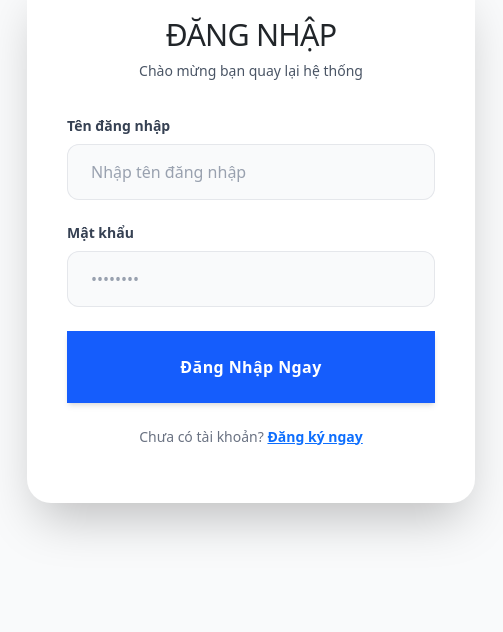
Test: Login Component › nên hiển thị thông báo lỗi khi đăng nhập thất bại
The image size is (503, 632).
Type "wronguser" into the field with placeholder "Nhập tên đăng nhập" at x=251, y=172, box left=67, top=144, right=435, bottom=200
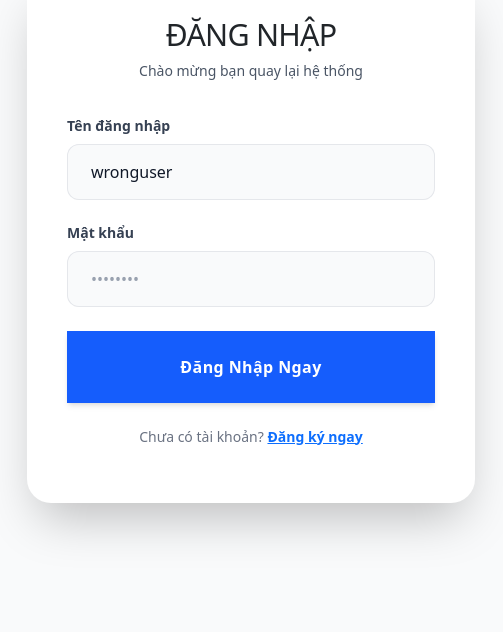
Type "wrongpass" into the password field with placeholder "••••••••" at x=251, y=278, box left=67, top=250, right=435, bottom=306
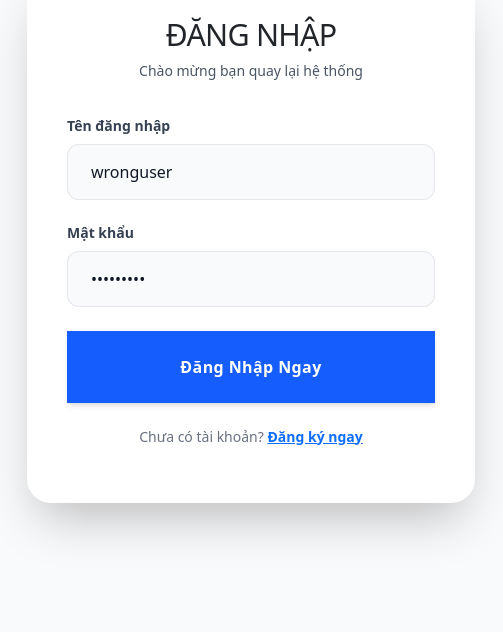
Click the button "Đăng Nhập Ngay" at x=251, y=366, box left=67, top=330, right=435, bottom=402
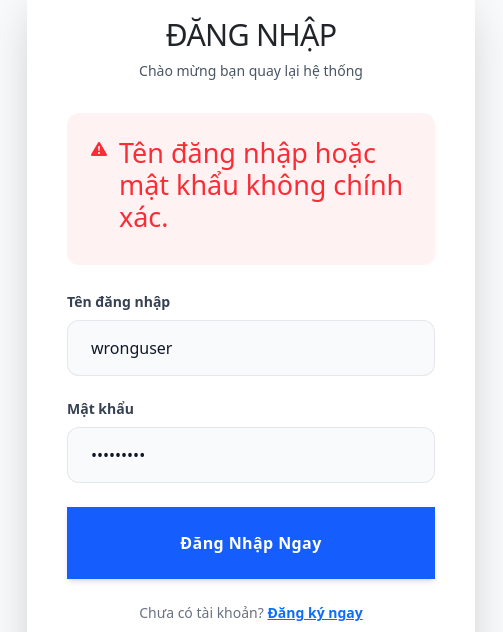
expect the heading "Tên đăng nhập hoặc mật khẩu không chính xác." is shown: met, box left=119, top=136, right=411, bottom=233
